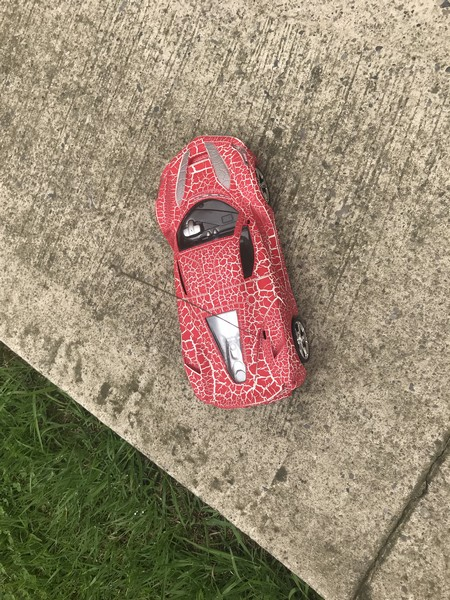RC: (154, 133, 312, 410)
